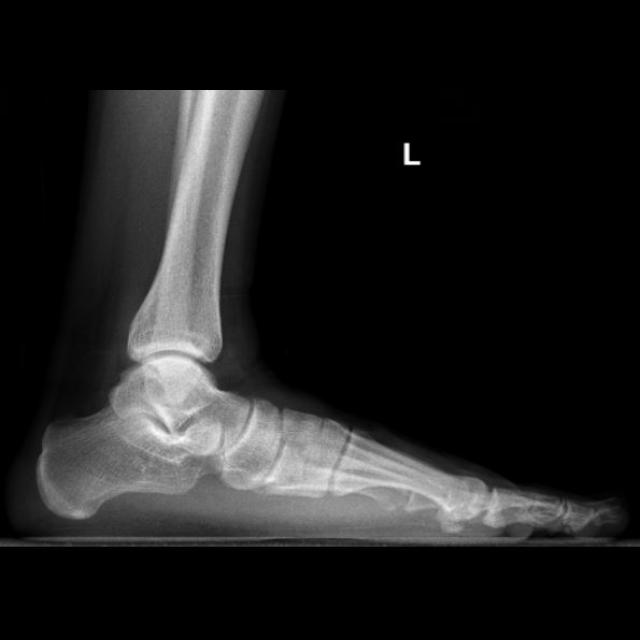a: (35, 403, 221, 517)
b: (226, 397, 280, 492)
c: (328, 429, 488, 517)
